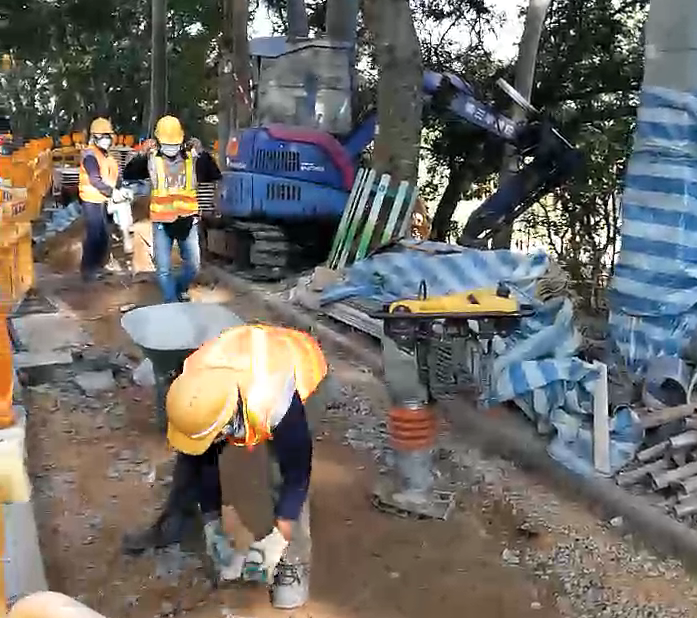Hard Hat: (164, 369, 248, 457), (154, 117, 185, 158), (89, 117, 116, 152)
Person: (141, 324, 329, 607), (146, 119, 210, 306), (78, 119, 124, 280)
Vest: (185, 321, 330, 446), (146, 141, 202, 221), (81, 135, 122, 203)
